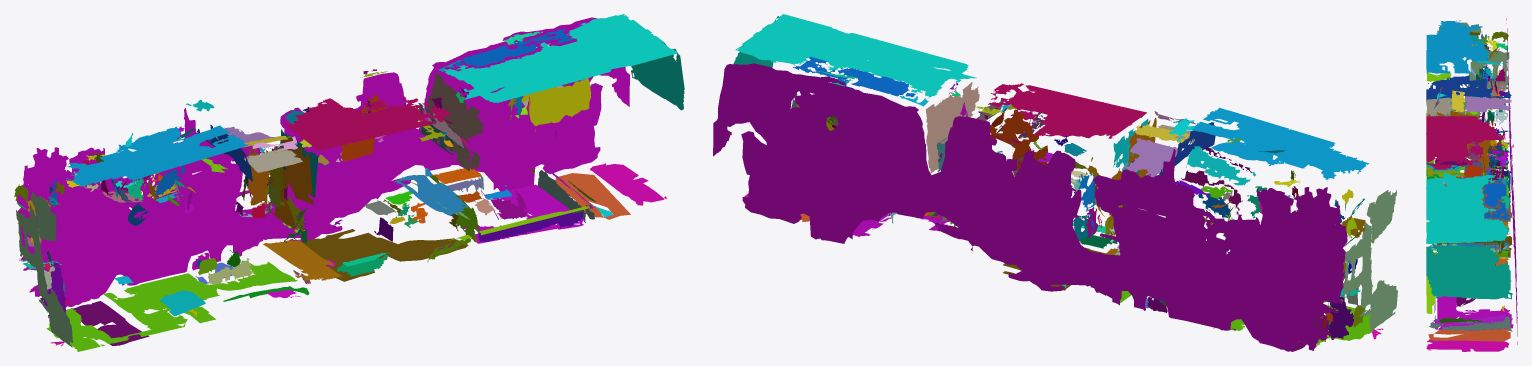
File: airplanes_scene078.glb
3 renders of one model, left to right at view 1: azimuth 30°, elevation 25°; view 2: azimuth 150°, elevation 25°; view 3: azimuth 270°, elevation 25°, orthographic. The views are drawn at different scales.
Bounding box in the file's own units: 16.61 × 4.94 × 2.75.
